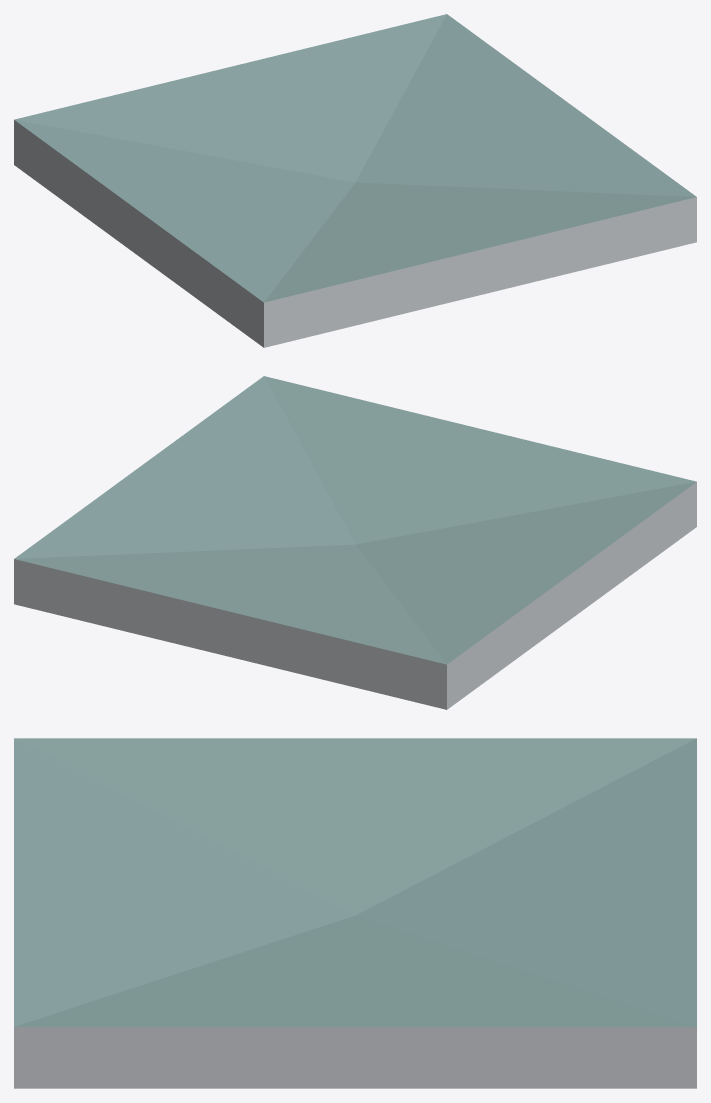
Rendered from Nature Ground 6.fbx.
3 renders of one model, top to bottom at view 1: azimuth 30°, elevation 25°; view 2: azimuth 150°, elevation 25°; view 3: azimuth 270°, elevation 25°, orthographic. The views are drawn at different scales.
Visible parts, largest first — view 1: Nature Ground 6; view 2: Nature Ground 6; view 3: Nature Ground 6.
Boxes of the visible parts, x1,y1,x2,y2 form: Nature Ground 6: (14, 14, 696, 347); Nature Ground 6: (14, 376, 696, 709); Nature Ground 6: (14, 738, 696, 1088).
Size of the model in its own units: 3 by 0.3 by 3.
